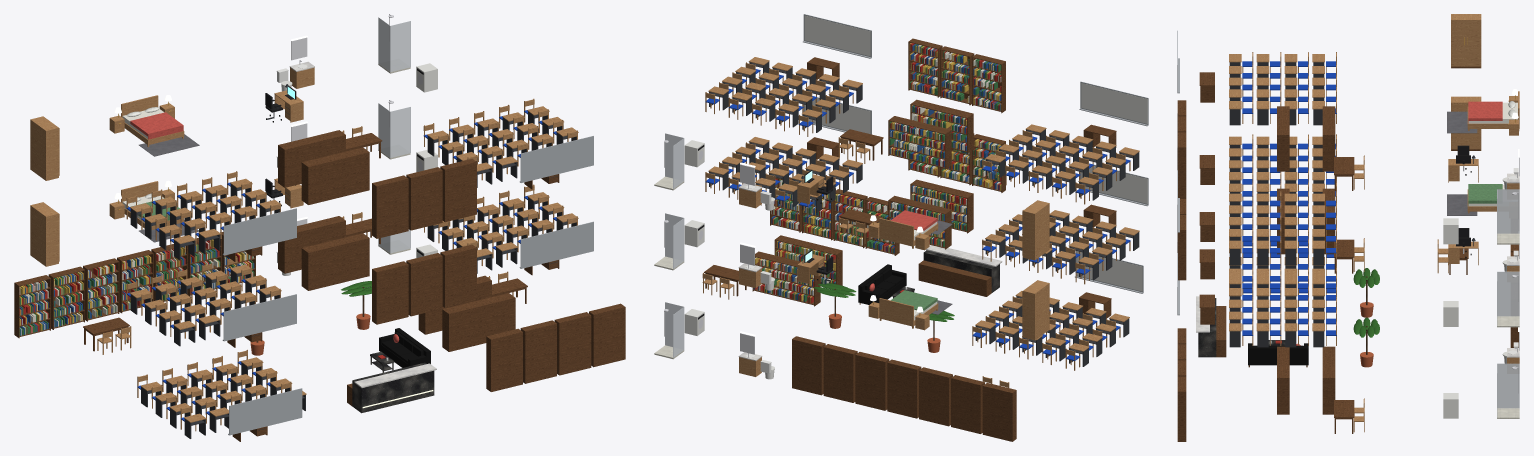
Rendered from i_mage_academy.gltf.
The picture shows the model from 3 angles, left to right: view 1: azimuth 30°, elevation 25°; view 2: azimuth 150°, elevation 25°; view 3: azimuth 270°, elevation 25°; orthographic projection. The views are drawn at different scales.
Parts seen in each view (by area): view 1: I_mage_academy; view 2: I_mage_academy; view 3: I_mage_academy.
Boxes of the visible parts, <box> form: I_mage_academy: <box>14,14,625,441</box>; I_mage_academy: <box>654,14,1148,441</box>; I_mage_academy: <box>1177,14,1519,441</box>.
Bounding box in the file's own units: 19.2 × 9.8 × 13.53.
34 materials, 11 textured.
